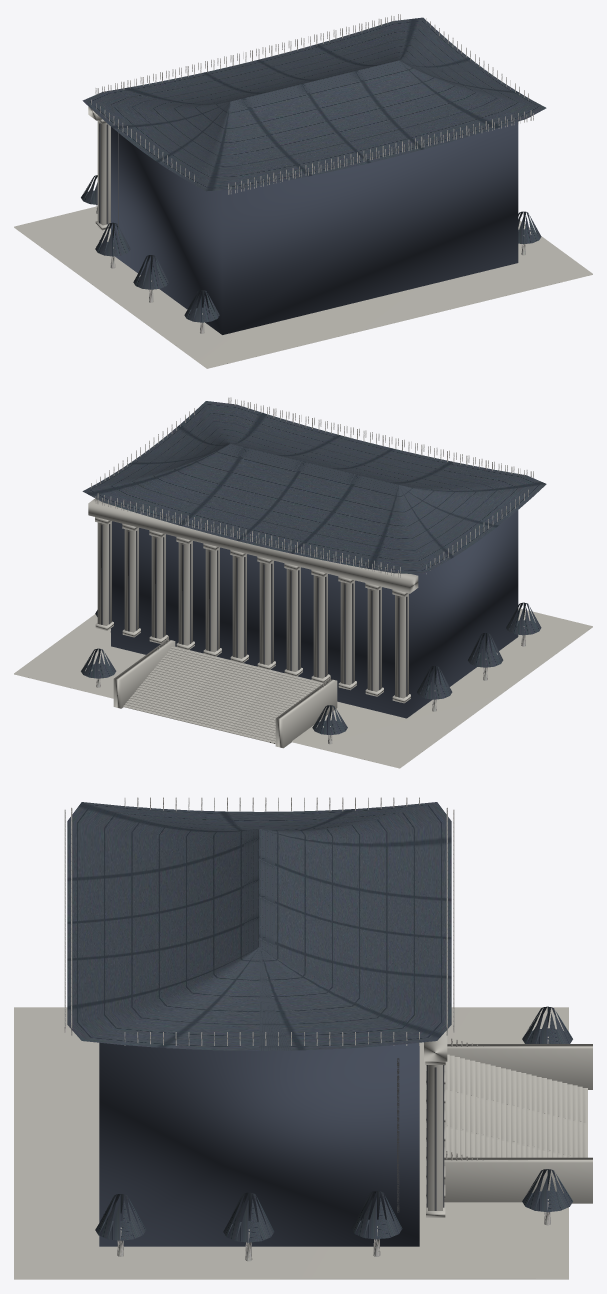
The picture shows the model from 3 angles, top to bottom: view 1: azimuth 30°, elevation 25°; view 2: azimuth 150°, elevation 25°; view 3: azimuth 270°, elevation 25°; orthographic projection. The views are drawn at different scales.
Parts seen in each view (by area): view 1: sejong_grand_theater_roof_shell, sejong_grand_stairs_and_plaza, sejong_arts_garden_trees, sejong_giant_colonnade_facade; view 2: sejong_grand_theater_roof_shell, sejong_grand_stairs_and_plaza, sejong_giant_colonnade_facade, sejong_arts_garden_trees; view 3: sejong_grand_theater_roof_shell, sejong_grand_stairs_and_plaza, sejong_arts_garden_trees, sejong_giant_colonnade_facade.
Boxes of the visible parts, <box> form: sejong_grand_theater_roof_shell: <box>82,14,546,334</box>; sejong_grand_stairs_and_plaza: <box>14,206,592,368</box>; sejong_arts_garden_trees: <box>81,175,541,333</box>; sejong_giant_colonnade_facade: <box>88,106,110,230</box>; sejong_grand_theater_roof_shell: <box>82,397,546,718</box>; sejong_grand_stairs_and_plaza: <box>14,608,592,768</box>; sejong_giant_colonnade_facade: <box>88,498,418,703</box>; sejong_arts_garden_trees: <box>81,602,541,744</box>; sejong_grand_theater_roof_shell: <box>64,797,454,1246</box>; sejong_grand_stairs_and_plaza: <box>14,1007,592,1279</box>; sejong_arts_garden_trees: <box>95,1006,572,1261</box>; sejong_giant_colonnade_facade: <box>424,1031,447,1217</box>.
Size of the model in its own units: 60 by 26.5 by 54.25.
Materials: 5 (5 with a texture image).
